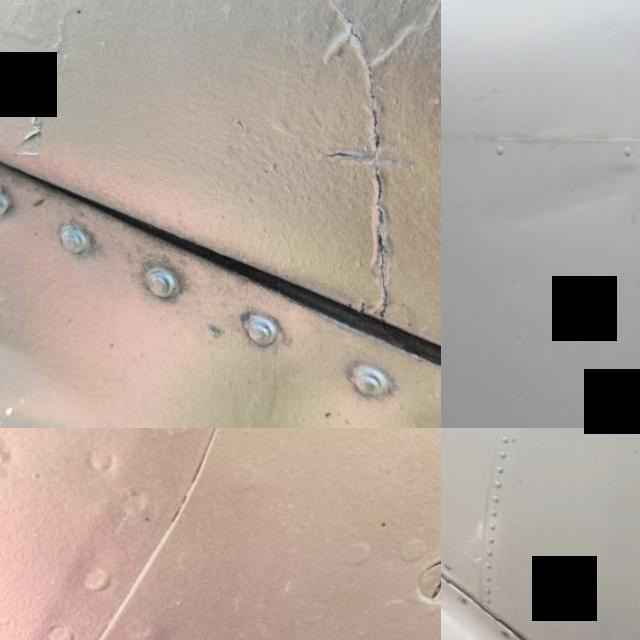Crack: (287, 0, 441, 341), (509, 623, 594, 640)
Dent: (476, 185, 622, 238)
Missing_Fastener: (491, 631, 507, 640)
